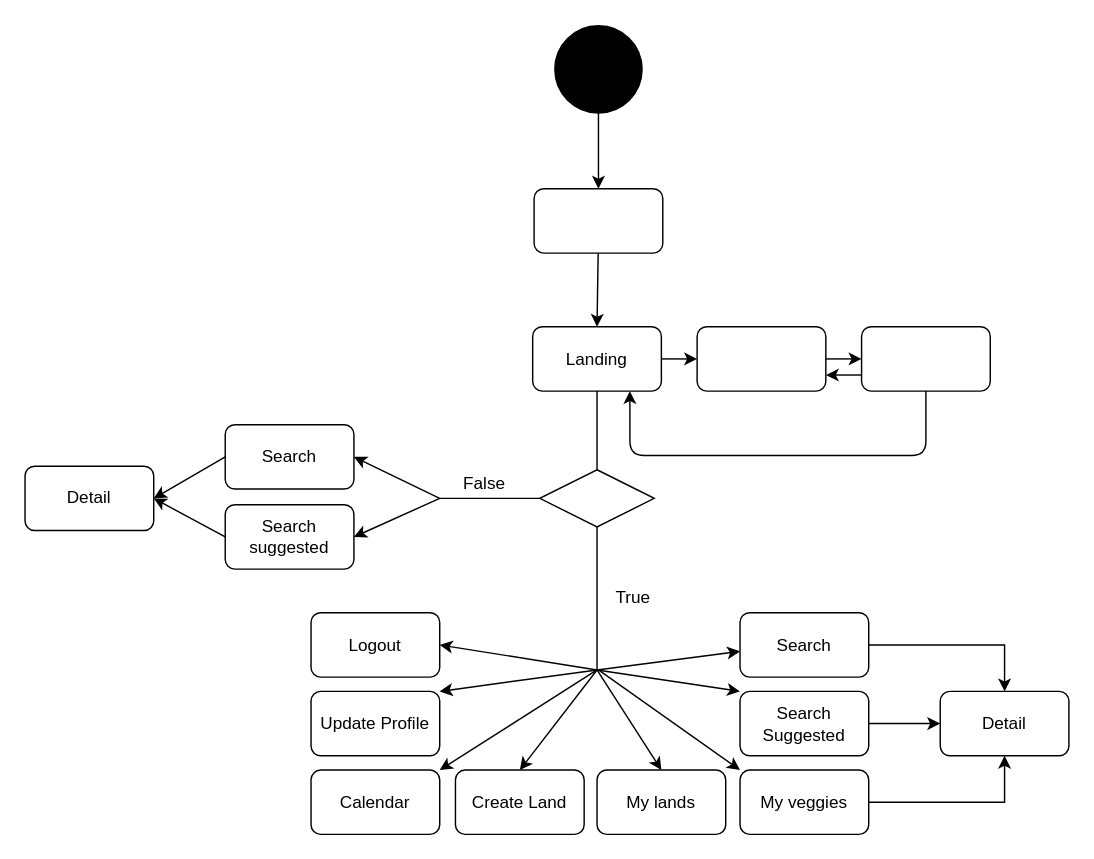
Some shapes in this 1094 by 859 pixel diagram are drawn without their labels. Each missing label, with the box of its shape:
Init Screen: (533, 187, 663, 253)
is logged: (538, 468, 654, 527)
Login: (860, 325, 990, 391)
Register: (696, 325, 826, 391)
